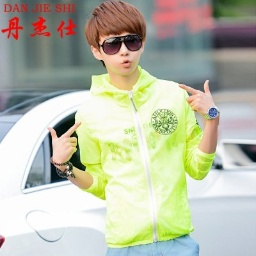face: (85, 1, 149, 76)
